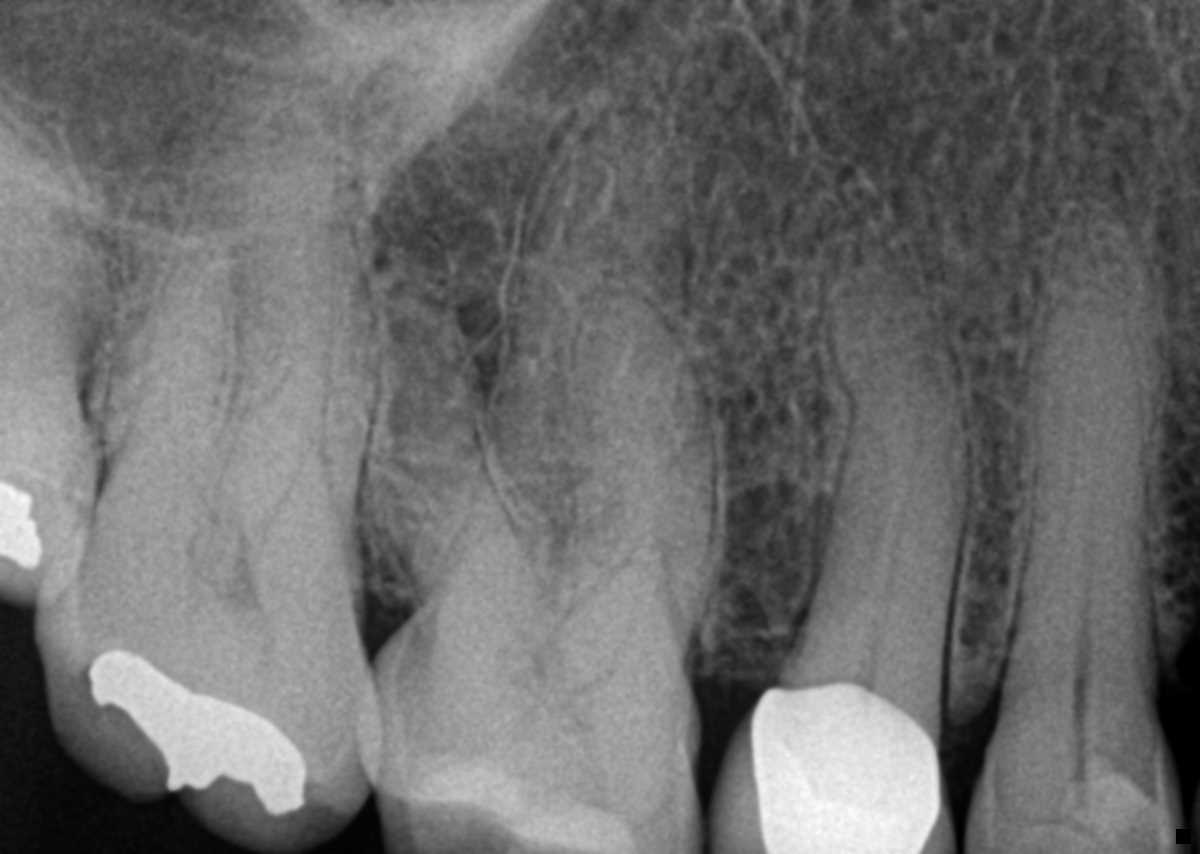Apical Lesion: (364, 149, 514, 433)
Distal Root: (321, 226, 541, 611), (100, 170, 232, 517)
Main Canal: (858, 401, 922, 684), (1071, 478, 1098, 674)
Main Root: (767, 260, 972, 739), (1007, 205, 1156, 687), (0, 123, 99, 420)
Mesial Root: (565, 286, 717, 691), (218, 201, 376, 548)
Palatal Root: (438, 55, 685, 592), (103, 47, 342, 541)
